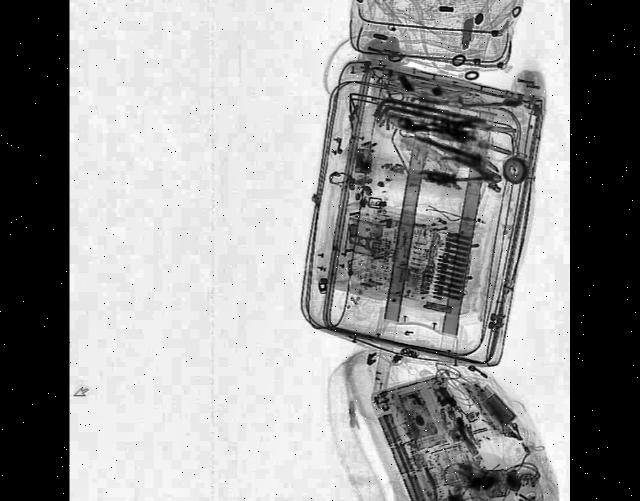Pliers: (429, 151, 502, 192)
